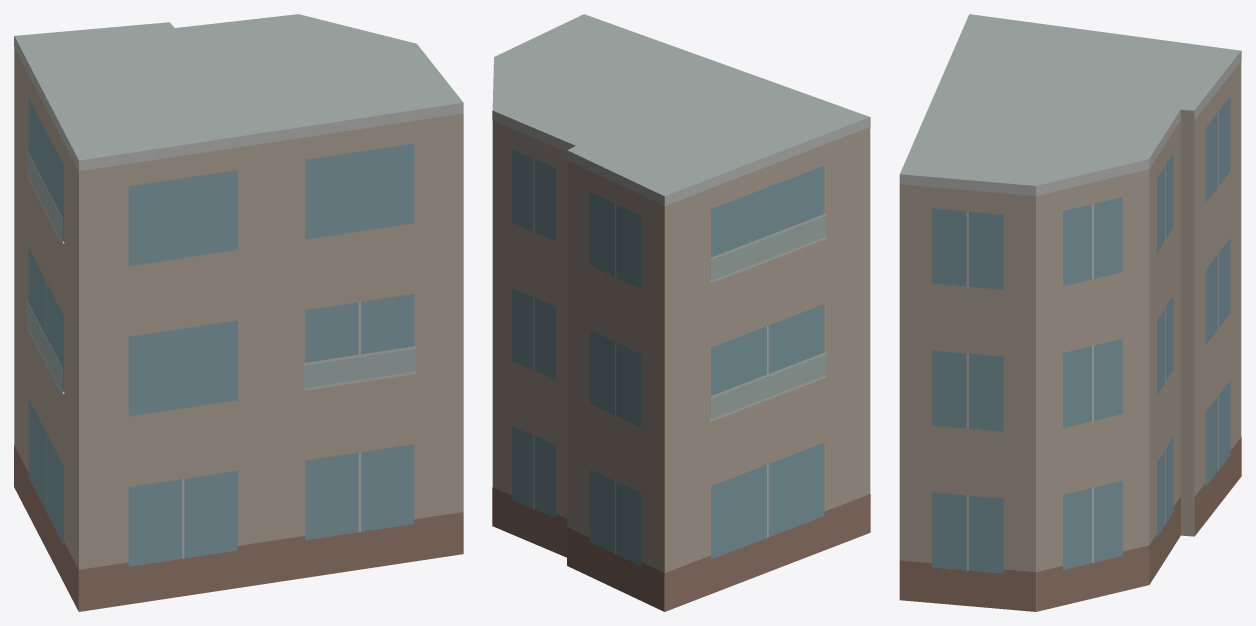
The model's file is survey-upis-32456788.glb.
3 renders of one model, left to right at view 1: azimuth 30°, elevation 25°; view 2: azimuth 150°, elevation 25°; view 3: azimuth 270°, elevation 25°, orthographic. The views are drawn at different scales.
Visible parts, largest first — view 1: survey-upis-32456788.tmp; view 2: survey-upis-32456788.tmp; view 3: survey-upis-32456788.tmp.
Part boxes in pixels (bbox=[...]): survey-upis-32456788.tmp: bbox=[14, 14, 463, 611]; survey-upis-32456788.tmp: bbox=[492, 14, 870, 611]; survey-upis-32456788.tmp: bbox=[899, 14, 1241, 611].
Size of the model in its own units: 8.93 by 10.3 by 7.5.
